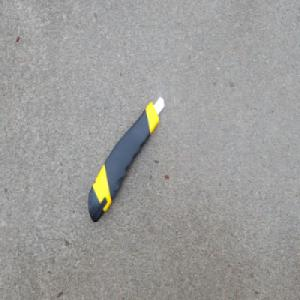Cutter: (86, 94, 164, 224)
